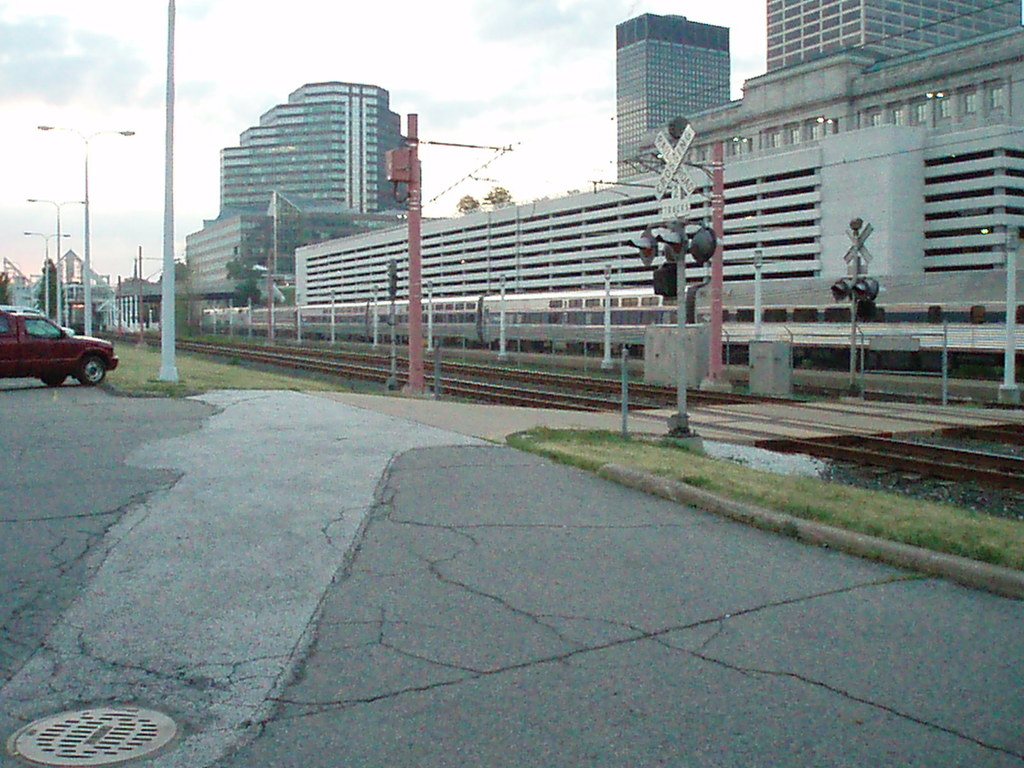Car: (0, 299, 116, 388)
